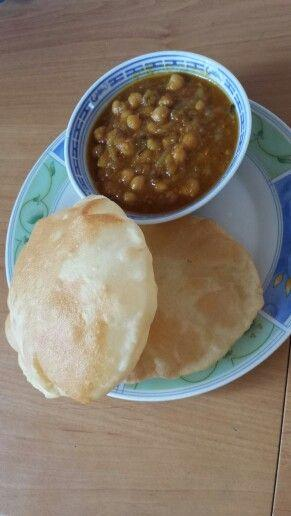chole: (69, 97, 221, 201)
puri: (12, 227, 252, 389)
